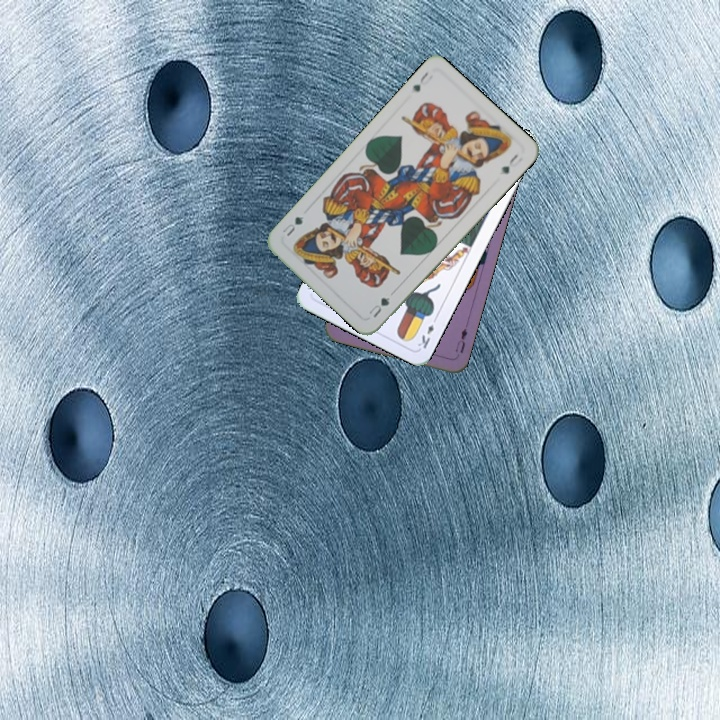EK: (413, 312, 440, 351)
EU: (451, 324, 470, 356)
GU: (365, 293, 393, 320), (408, 67, 433, 94)
